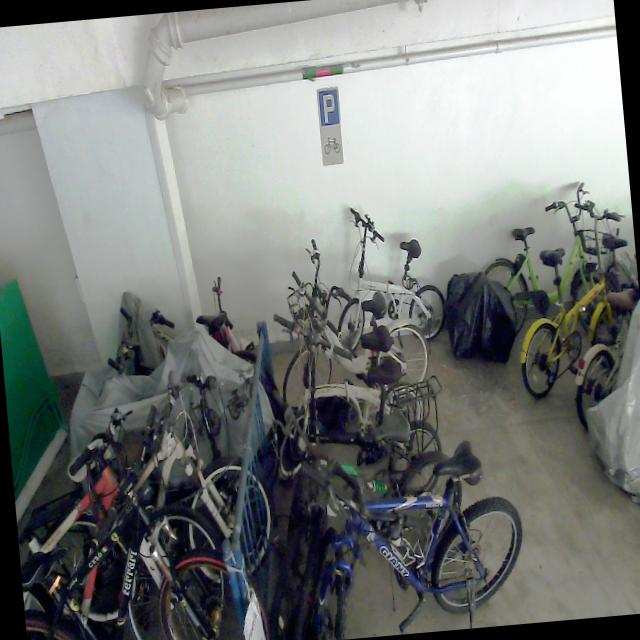bike: (36, 362, 279, 632), (8, 397, 272, 640), (269, 434, 530, 640), (8, 400, 232, 640), (270, 353, 447, 538), (268, 229, 432, 408), (265, 299, 428, 479), (474, 179, 628, 357), (507, 195, 640, 396), (327, 198, 449, 350)
